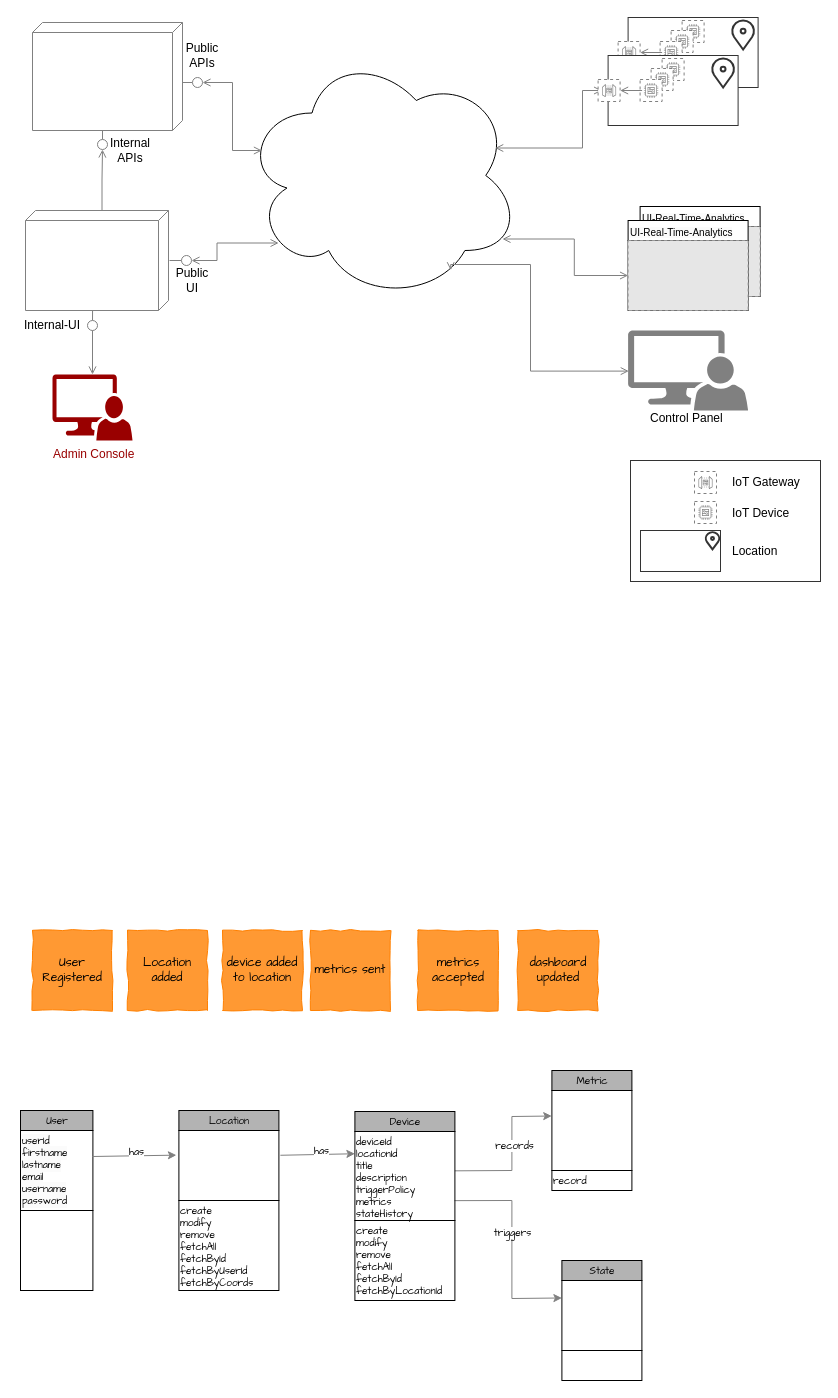
This 838x1398 diagram has some shape labels left out. Grey dashed boxes stand in for pictures. Each missing label, with the box of its shape:
checkState changeState: (561, 1350, 642, 1380)
Internet: (242, 50, 520, 300)
locationId userId title description coordinates: (178, 1130, 279, 1200)
metricId deviceId startTime endTime aggregateType value: (551, 1090, 632, 1170)
register unregister login create modify remove: (20, 1210, 93, 1290)
seedsio-app: (24, 210, 168, 310)
seedsio-hub: (32, 22, 182, 130)
stateId deviceId time previousState currentState: (561, 1280, 642, 1350)
